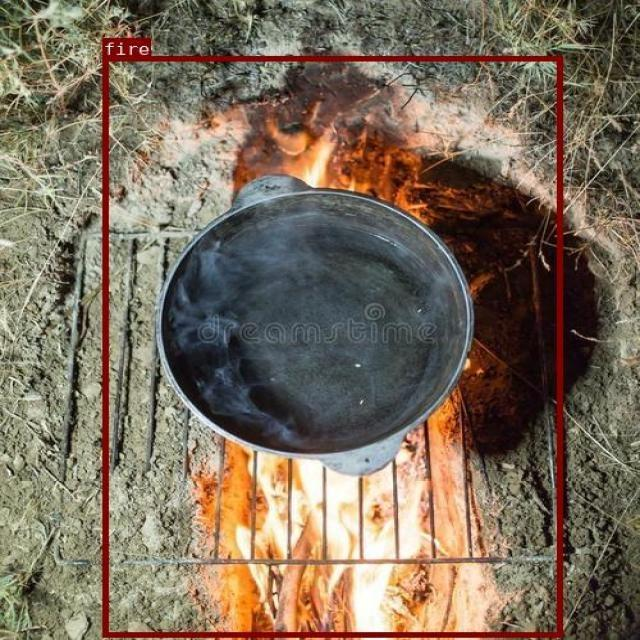fire: (102, 56, 562, 637)
